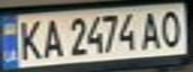2: (63, 14, 87, 56)
4: (118, 10, 142, 52), (84, 12, 106, 55)
7: (100, 11, 121, 53)
A: (39, 16, 66, 60), (139, 8, 166, 51)
K: (15, 16, 45, 62)
O: (157, 7, 187, 48)
